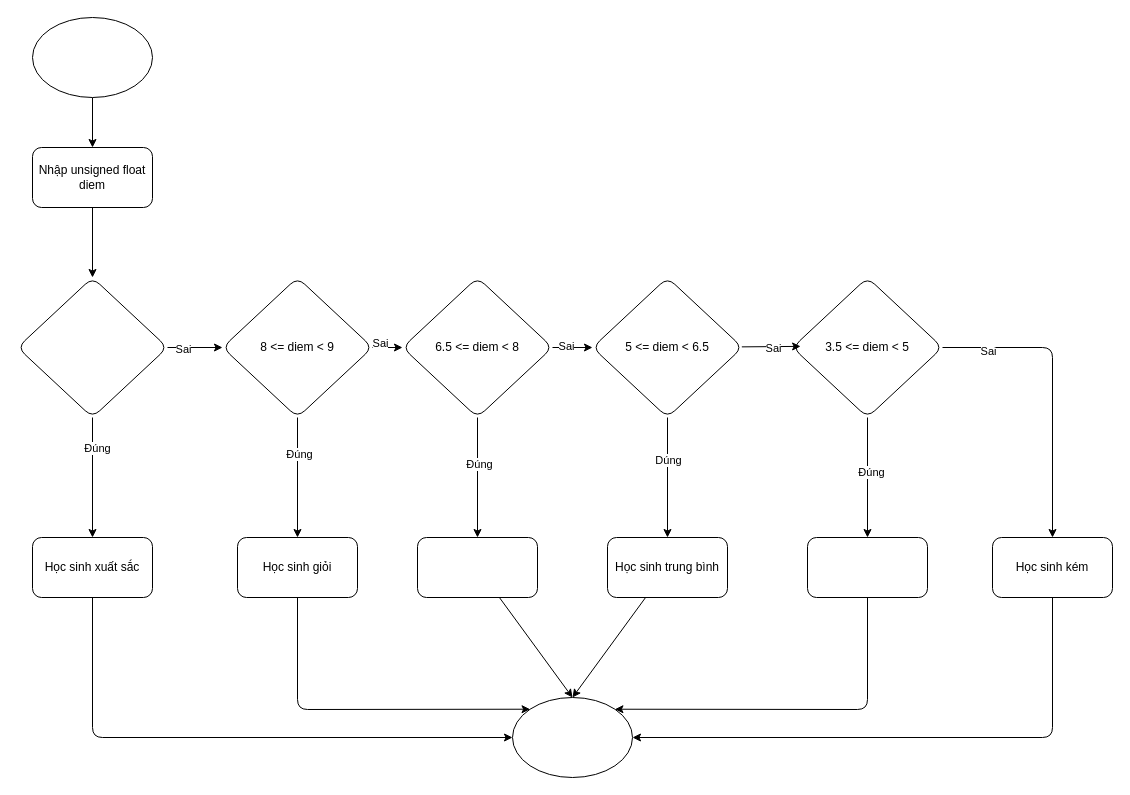
The diagram is 1130 pixels wide and 795 high, and some of its shapes have lost their labels. Each missing label, with the centre of its shape:
"9 <= diem <= 10" goes at [92,347].
"Bắt đầu" goes at [92,57].
"Học sinh khá" goes at [477,567].
"Học sinh yếu" goes at [867,567].
"Kết thúc" goes at [572,737].
